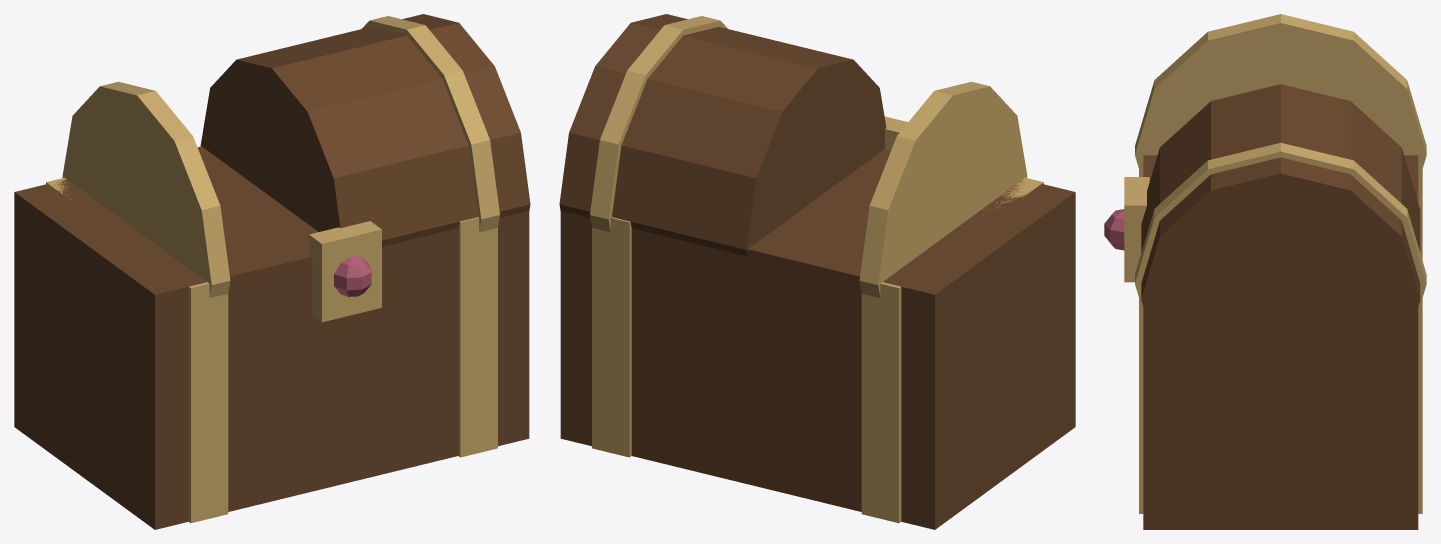
File: chest-gilded.glb
The picture shows the model from 3 angles, left to right: view 1: azimuth 30°, elevation 25°; view 2: azimuth 150°, elevation 25°; view 3: azimuth 270°, elevation 25°; orthographic projection. The views are drawn at different scales.
Parts seen in each view (by area): view 1: chest-gilded; view 2: chest-gilded; view 3: chest-gilded.
Boxes of the visible parts, left/top/right/bottom form: chest-gilded: left=14, top=14, right=530, bottom=529; chest-gilded: left=559, top=14, right=1075, bottom=529; chest-gilded: left=1104, top=14, right=1426, bottom=529.
Size of the model in its own units: 1 by 0.9449 by 0.7626.
